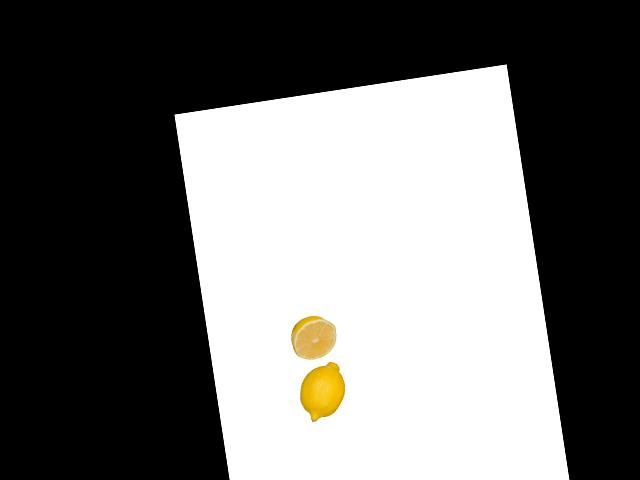lemon: (295, 359, 349, 421)
